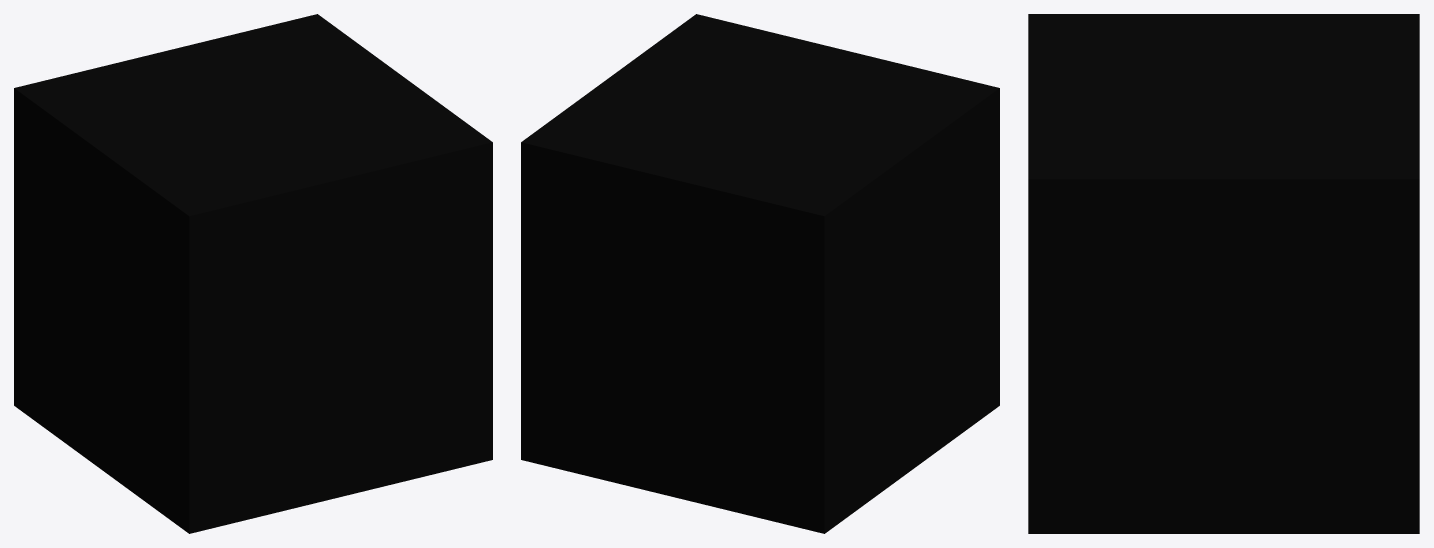
File: 1bitGameJam.gltf
3 views of the same model, side by side, from view 1: azimuth 30°, elevation 25°; view 2: azimuth 150°, elevation 25°; view 3: azimuth 270°, elevation 25° (orthographic). The views are drawn at different scales.
Visible parts, largest first — view 1: World; view 2: World; view 3: World.
Part boxes in pixels (box(x1,y1,x2,y2)): World: box(14, 14, 492, 533); World: box(521, 14, 999, 533); World: box(1028, 14, 1419, 533).
Bounding box in the file's own units: 3 × 3 × 3.
1 material, 1 textured.
